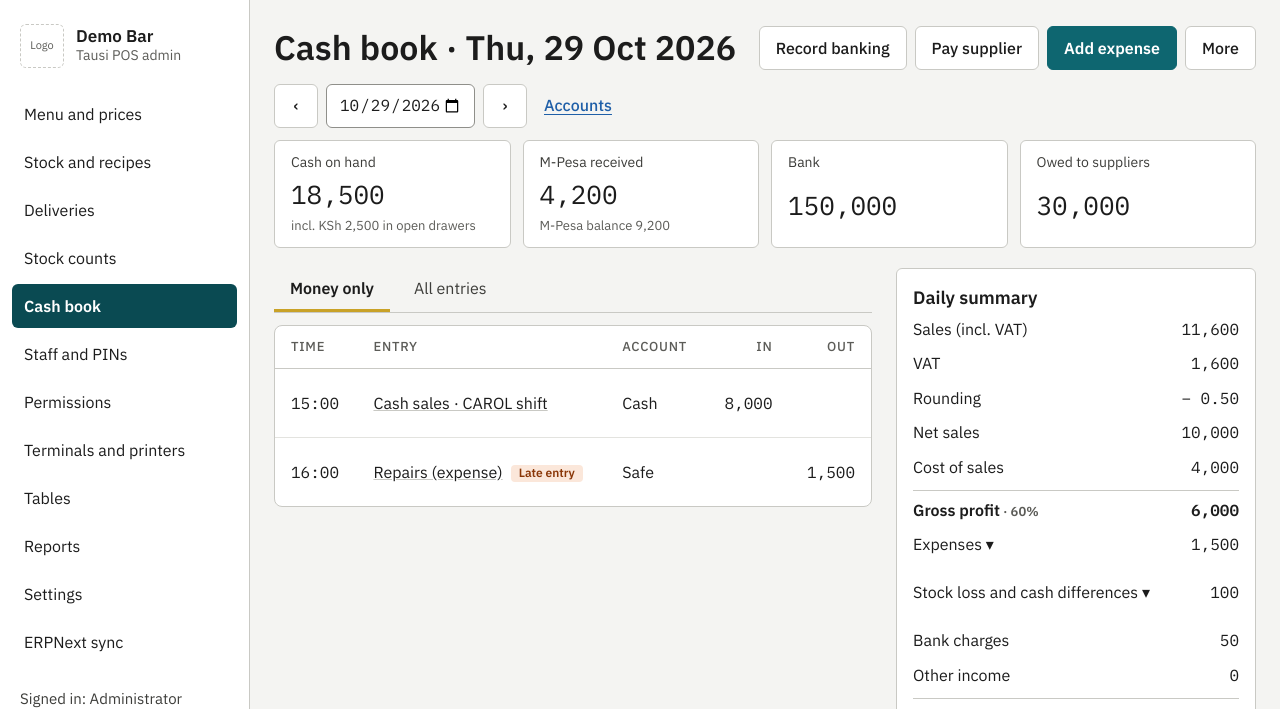
Test: Cash book › shows the daily summary, opens the expenses split and warns about items with no recipe
The image size is (1280, 709).
Expected: the text "10,000" is shown, [1181,421,1239,444]
What coordinates should you click on to do the following:
click the button "Expenses ▾ 1,500"
I would click on:
 (947, 544)
Its box is [913,529,1239,573].
(page scrolled)
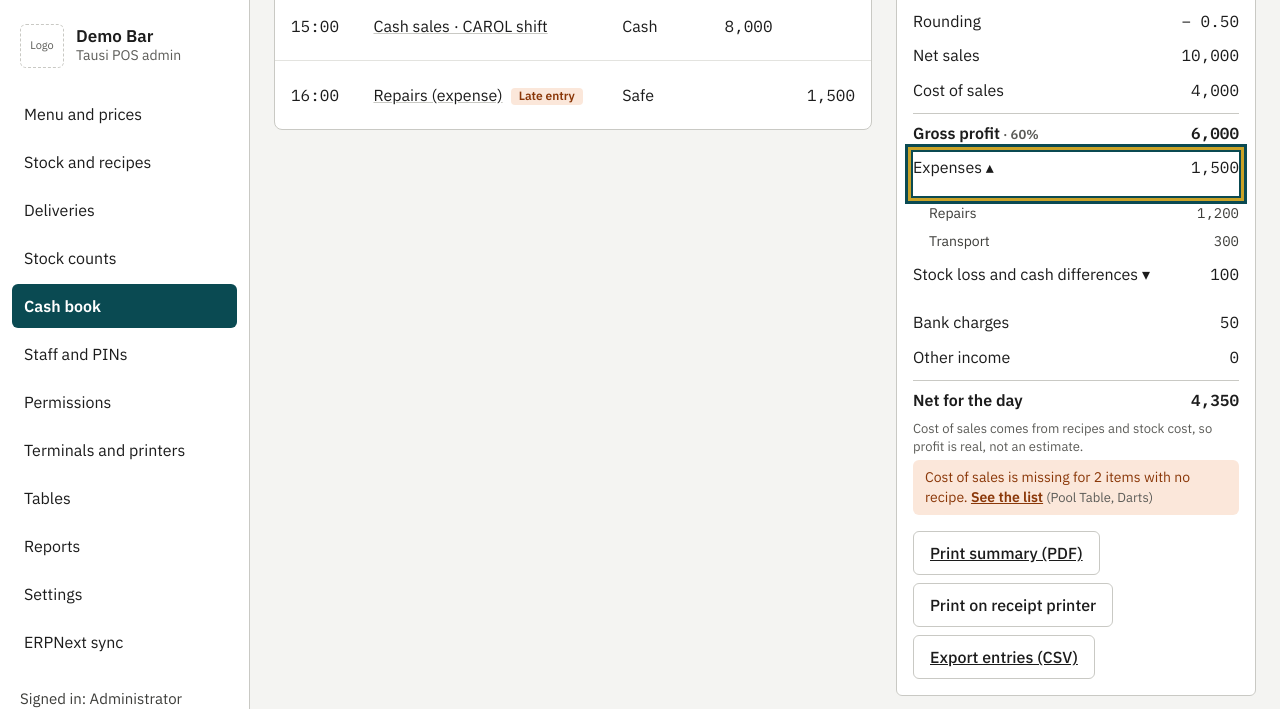
Expected: the message shows "Cost of sales is missing for 2 items with no recipe.", [925,468,1190,506]
Result: the text "1,200" is shown at [1197,204,1239,224]
Result: the text "Transport" is shown at [929,232,990,252]
